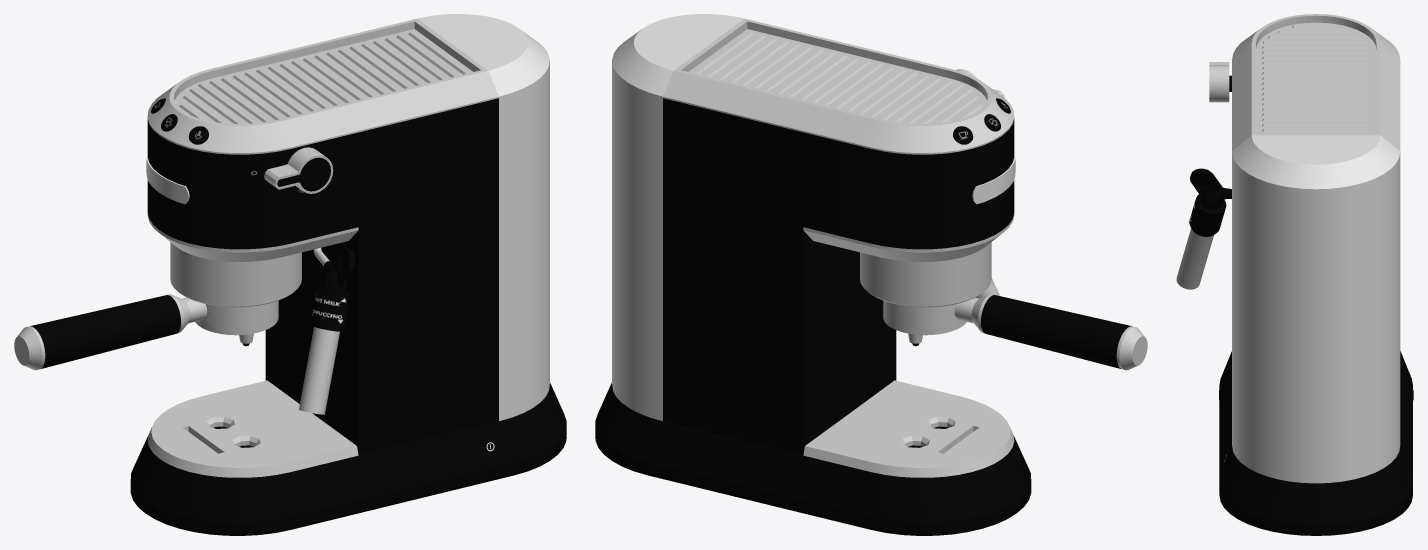
The model's file is CoffeeMaker.fbx.
The picture shows the model from 3 angles, left to right: view 1: azimuth 30°, elevation 25°; view 2: azimuth 150°, elevation 25°; view 3: azimuth 270°, elevation 25°; orthographic projection. The views are drawn at different scales.
Visible parts, largest first — view 1: top, bottom; view 2: top, bottom; view 3: top, bottom.
Part boxes in pixels (x1,y1,x2,y2): top: [14, 14, 549, 477]; bottom: [130, 382, 566, 535]; top: [612, 14, 1147, 477]; bottom: [595, 382, 1031, 535]; top: [1176, 14, 1400, 483]; bottom: [1219, 351, 1413, 535].
Size of the model in its own units: 43.01 by 30.5 by 18.37.
Materials: 10 (3 with a texture image).
